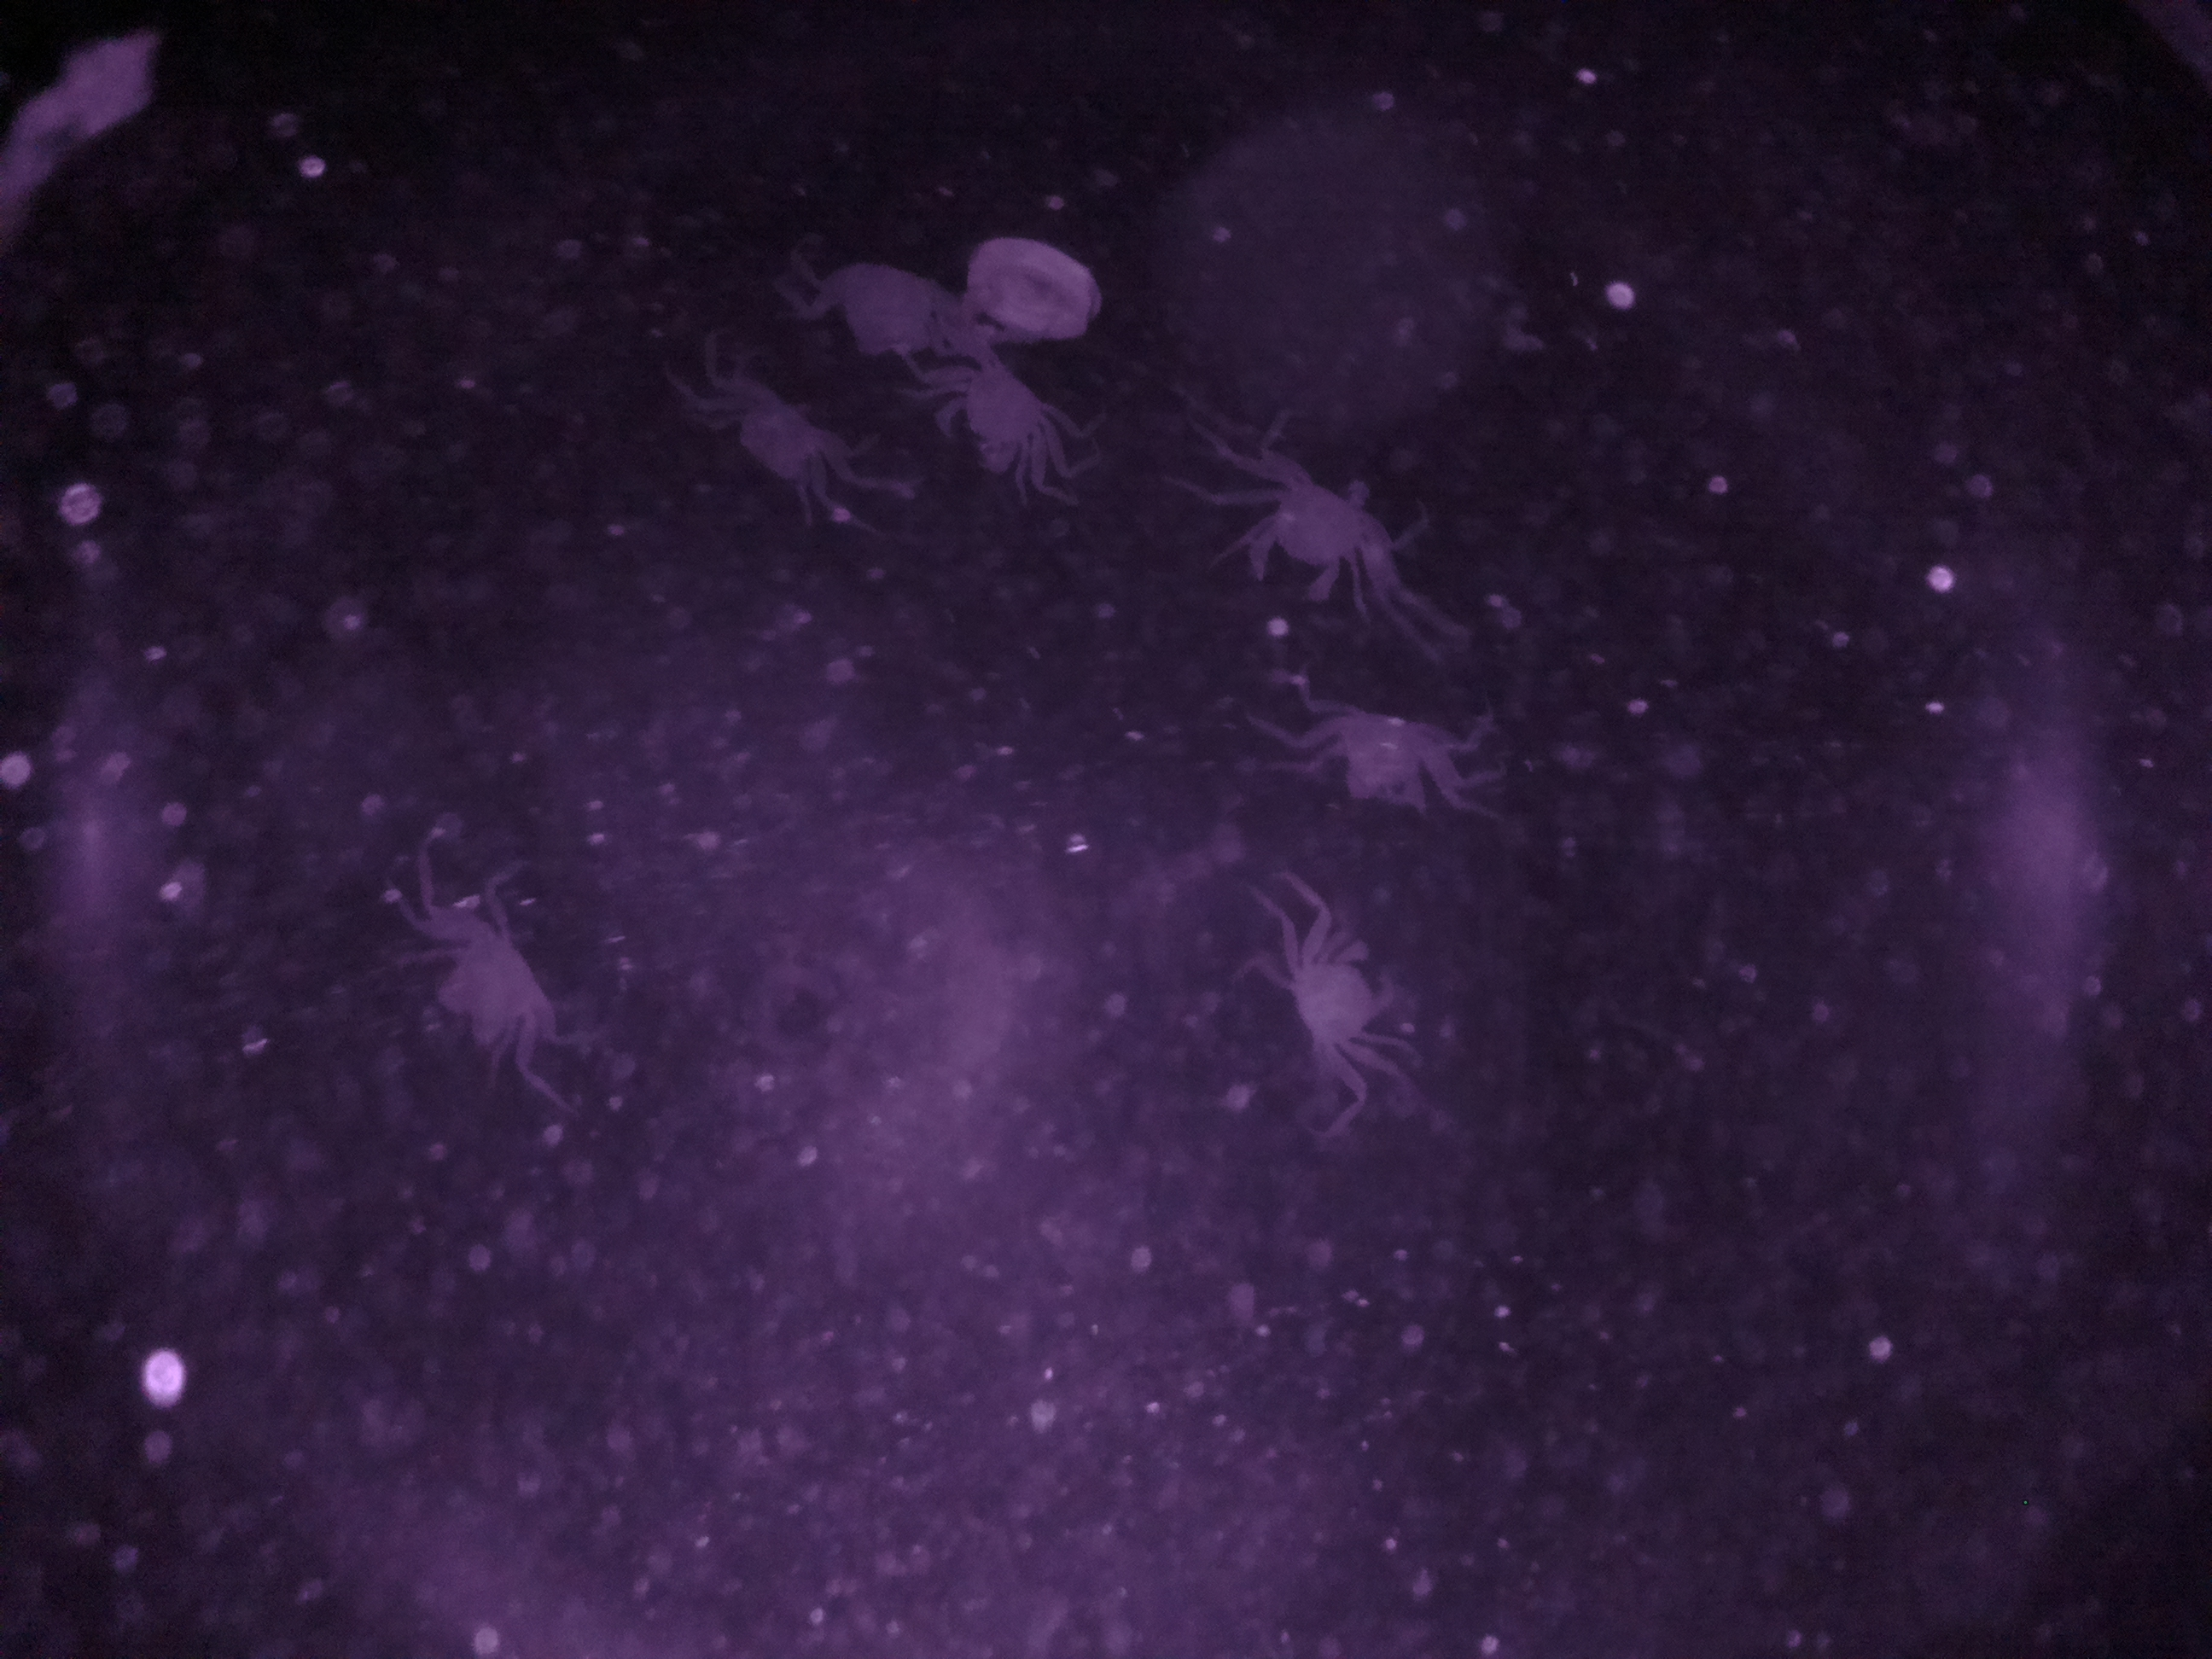Crab: (413, 877, 627, 1089), (1204, 434, 1414, 627), (1245, 899, 1414, 1126), (907, 301, 1092, 502), (1263, 680, 1487, 823)
